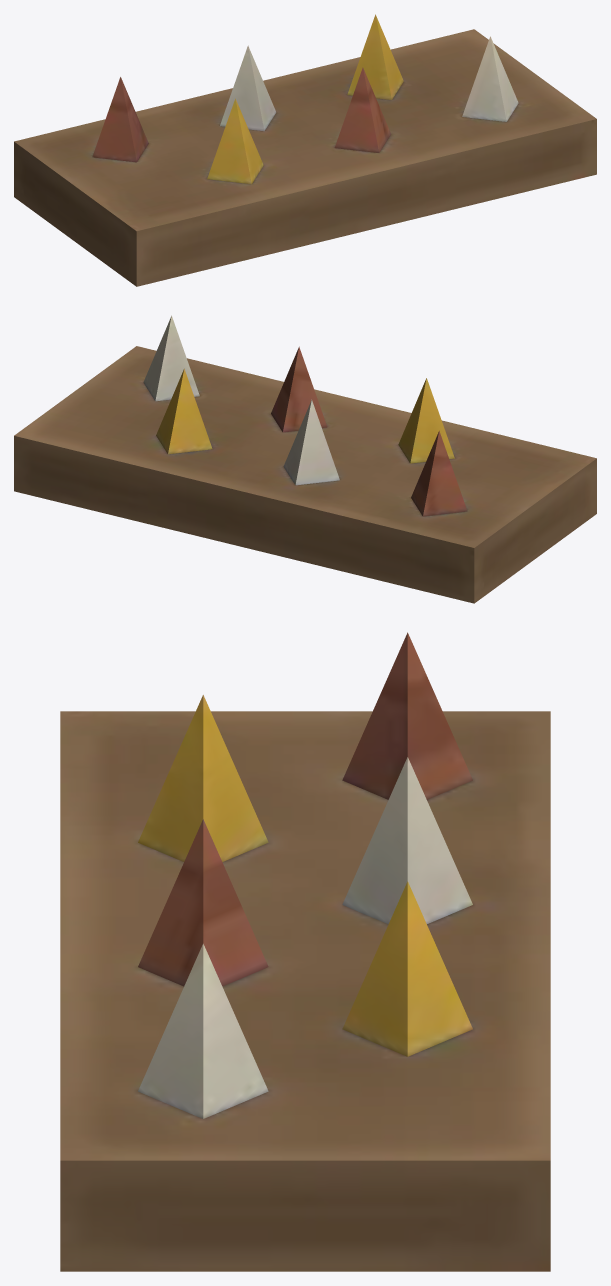
The model's file is life-plant-flowerbed.glb.
The picture shows the model from 3 angles, top to bottom: view 1: azimuth 30°, elevation 25°; view 2: azimuth 150°, elevation 25°; view 3: azimuth 270°, elevation 25°; orthographic projection. The views are drawn at different scales.
Parts seen in each view (by area): view 1: life-plant-flowerbed; view 2: life-plant-flowerbed; view 3: life-plant-flowerbed.
Part boxes in pixels (<box>): life-plant-flowerbed: <box>14,14,596,286</box>; life-plant-flowerbed: <box>14,315,596,603</box>; life-plant-flowerbed: <box>60,632,550,1271</box>.
Size of the model in its own units: 0.26 by 0.07 by 0.12.
1 material, 1 textured.
